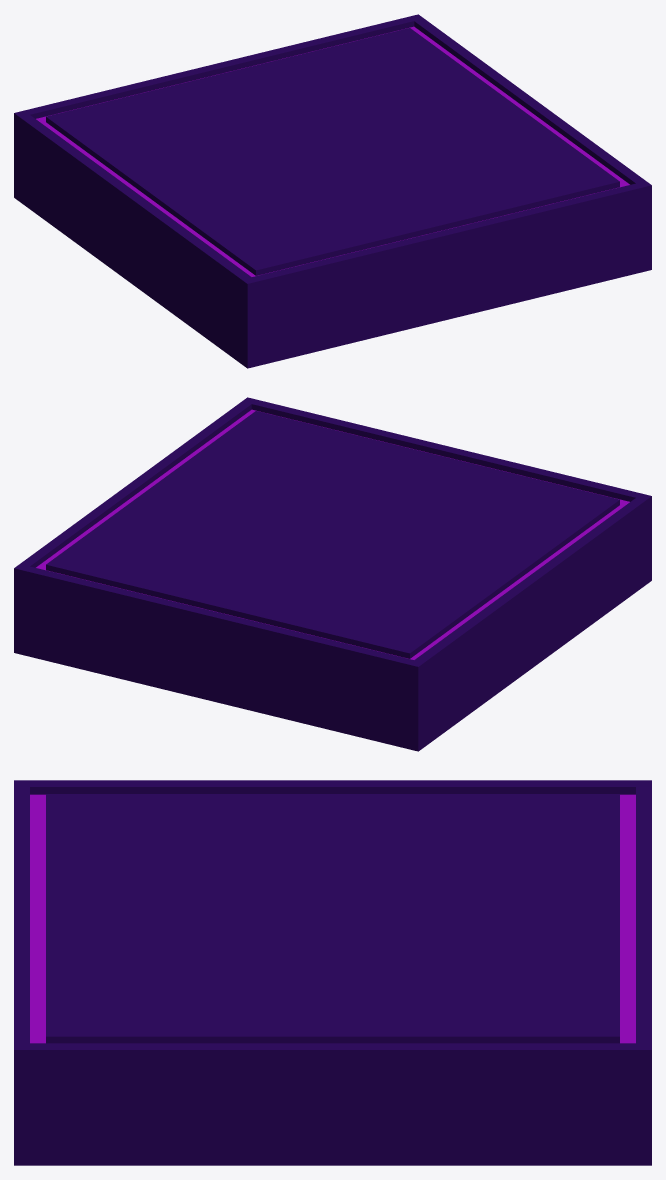
Rendered from floor_1.fbx.
3 views of the same model, one above another, from view 1: azimuth 30°, elevation 25°; view 2: azimuth 150°, elevation 25°; view 3: azimuth 270°, elevation 25° (orthographic). The views are drawn at different scales.
Parts seen in each view (by area): view 1: pCube1; view 2: pCube1; view 3: pCube1.
Part boxes in pixels (left/top/right/bottom): pCube1: left=14, top=14, right=651, bottom=368; pCube1: left=14, top=397, right=651, bottom=751; pCube1: left=14, top=780, right=651, bottom=1165.
Size of the model in its own units: 100 by 20 by 100.
